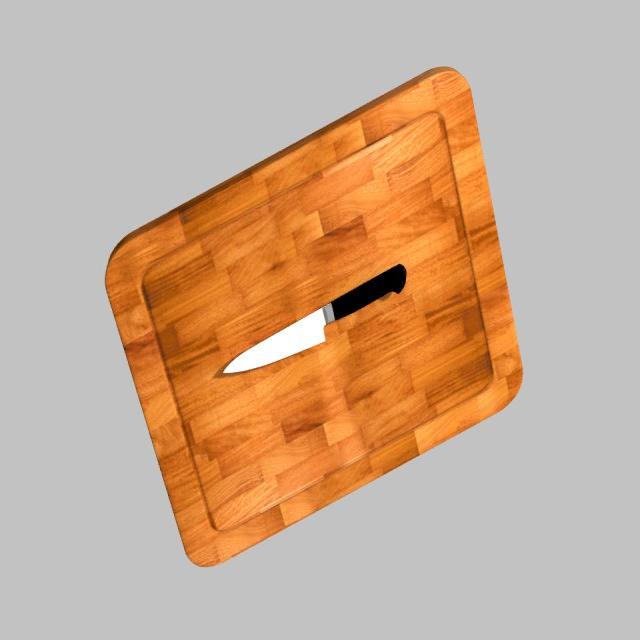knife: (331, 264, 406, 320)
